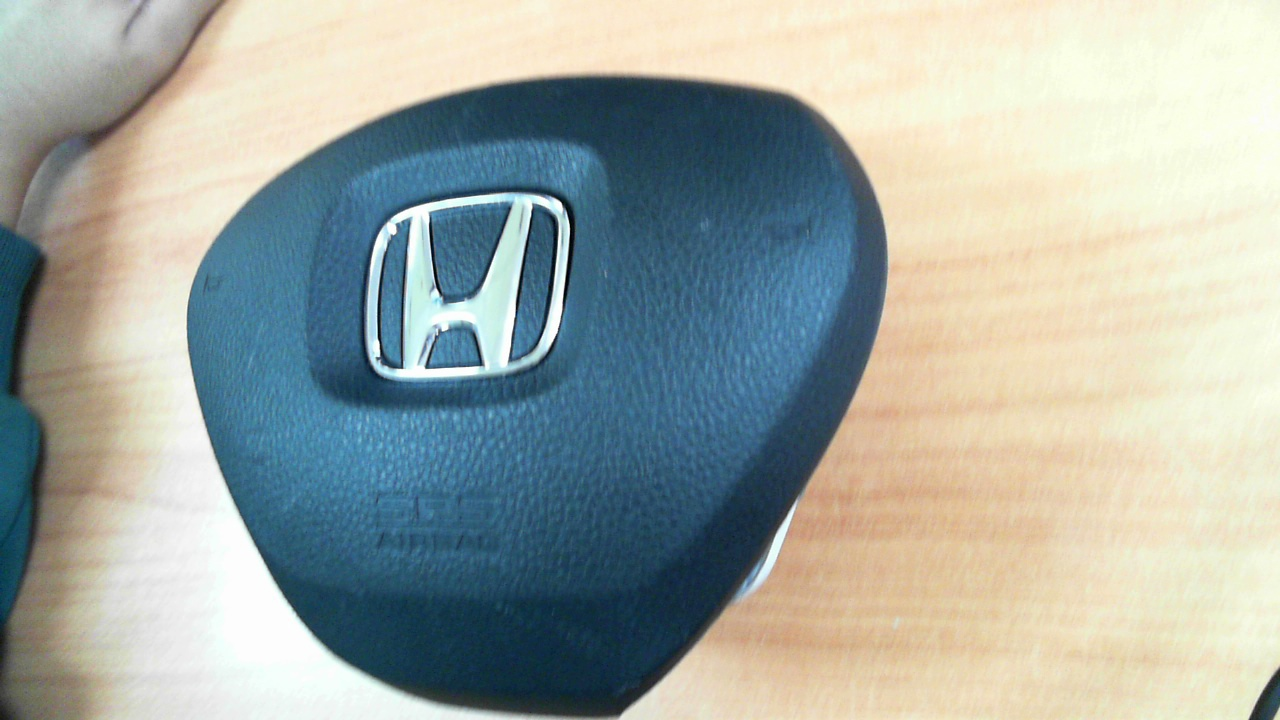Airbag: (186, 75, 890, 718)
Honda: (366, 191, 571, 382)
